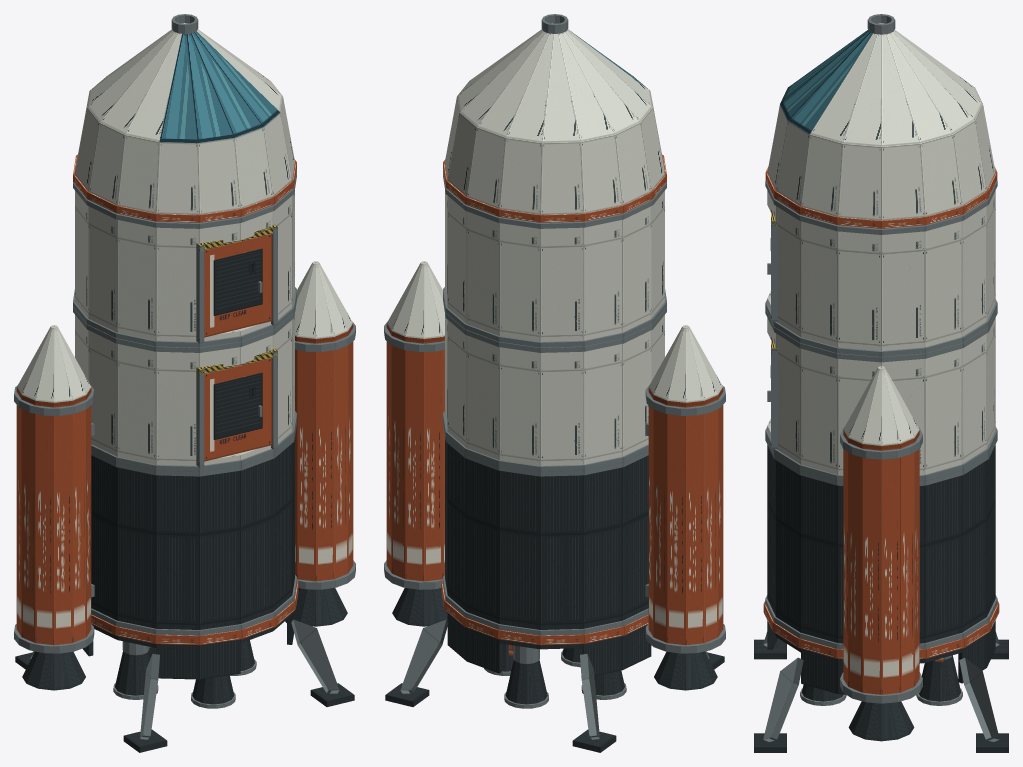
Rendered from rocket-mammoth.glb.
3 views of the same model, side by side, from view 1: azimuth 30°, elevation 25°; view 2: azimuth 150°, elevation 25°; view 3: azimuth 270°, elevation 25° (orthographic). The views are drawn at different scales.
Visible parts, largest first — view 1: 02_TankSection_hull, 05_CommandCapsule_hull, 06_PortBooster_hull, 04_UpperCargoBay_hull, 07_StarboardBooster_hull, 03_LowerCargoBay_hull, 05_CommandCapsule_glass, Door leaf (×2), Door inset (×2), 04_UpperCargoBay_frame, 03_LowerCargoBay_frame, 01_Propulsion_hull (+12 smaller); view 2: 02_TankSection_hull, 05_CommandCapsule_hull, 04_UpperCargoBay_hull, 03_LowerCargoBay_hull, 06_PortBooster_hull, 07_StarboardBooster_hull, 01_Propulsion_hull, 04_UpperCargoBay_frame, 03_LowerCargoBay_frame, 02_TankSection_frame, 01_Propulsion_frame, LEG_02_landing_leg (+9 smaller); view 3: 05_CommandCapsule_hull, 04_UpperCargoBay_hull, 02_TankSection_hull, 07_StarboardBooster_hull, 03_LowerCargoBay_hull, 04_UpperCargoBay_frame, 05_CommandCapsule_glass, 03_LowerCargoBay_frame, 01_Propulsion_hull, 05_CommandCapsule_frame, LEG_01_landing_leg, LEG_02_landing_leg (+9 smaller).
Part boxes in pixels (x1,y1,x2,y2): 02_TankSection_hull: [91, 438, 294, 629]; 05_CommandCapsule_hull: [75, 23, 294, 214]; 06_PortBooster_hull: [16, 325, 91, 645]; 04_UpperCargoBay_hull: [75, 190, 294, 341]; 07_StarboardBooster_hull: [295, 261, 353, 581]; 03_LowerCargoBay_hull: [75, 314, 294, 465]; 05_CommandCapsule_glass: [159, 31, 280, 143]; Door leaf (×2): [204, 234, 272, 461]; Door inset (×2): [213, 248, 262, 439]; 04_UpperCargoBay_frame: [73, 170, 296, 347]; 03_LowerCargoBay_frame: [73, 296, 296, 471]; 01_Propulsion_hull: [82, 610, 294, 679]; 02_TankSection_hull: [445, 438, 648, 629]; 05_CommandCapsule_hull: [445, 23, 664, 214]; 04_UpperCargoBay_hull: [445, 190, 664, 341]; 03_LowerCargoBay_hull: [445, 314, 664, 465]; 06_PortBooster_hull: [648, 325, 723, 645]; 07_StarboardBooster_hull: [386, 261, 444, 581]; 01_Propulsion_hull: [447, 613, 651, 675]; 04_UpperCargoBay_frame: [443, 170, 666, 347]; 03_LowerCargoBay_frame: [443, 296, 666, 471]; 02_TankSection_frame: [443, 420, 648, 635]; 01_Propulsion_frame: [441, 580, 648, 645]; LEG_02_landing_leg: [385, 619, 448, 706]; 05_CommandCapsule_hull: [767, 23, 995, 220]; 04_UpperCargoBay_hull: [767, 190, 995, 351]; 02_TankSection_hull: [767, 445, 995, 643]; 07_StarboardBooster_hull: [843, 366, 919, 694]; 03_LowerCargoBay_hull: [767, 318, 995, 475]; 04_UpperCargoBay_frame: [765, 180, 997, 356]; 05_CommandCapsule_glass: [780, 30, 872, 134]; 03_LowerCargoBay_frame: [765, 308, 997, 480]; 01_Propulsion_hull: [767, 621, 995, 694]; 05_CommandCapsule_frame: [765, 167, 997, 228]; LEG_01_landing_leg: [754, 657, 803, 752]; LEG_02_landing_leg: [959, 657, 1008, 752].
Bounding box in the file's own units: 8.62 × 16.43 × 5.58.
Materials: 1 (1 with a texture image).
